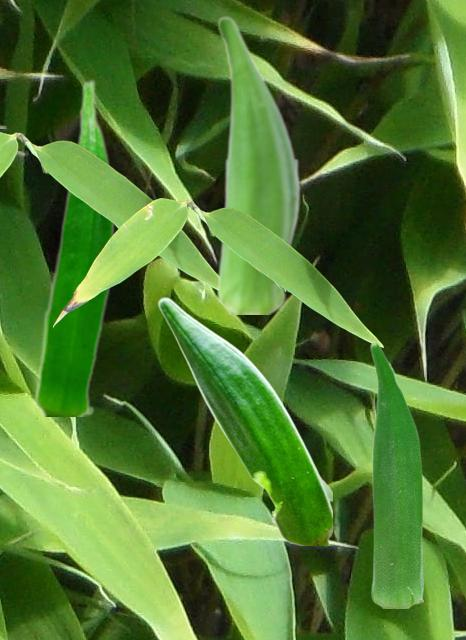okra: (157, 297, 331, 544), (34, 78, 115, 415), (216, 15, 300, 313), (370, 341, 422, 607)
